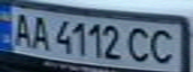1: (84, 20, 106, 57), (69, 19, 87, 56)
2: (100, 21, 127, 61)
4: (51, 17, 72, 55)
A: (6, 10, 36, 47), (27, 12, 54, 52)
C: (145, 26, 181, 65), (124, 25, 157, 64)
